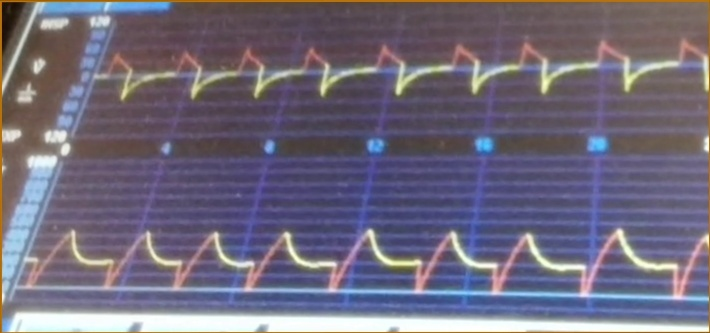Flow: (107, 27, 710, 132)
Leakage Volume: (46, 186, 707, 308)
